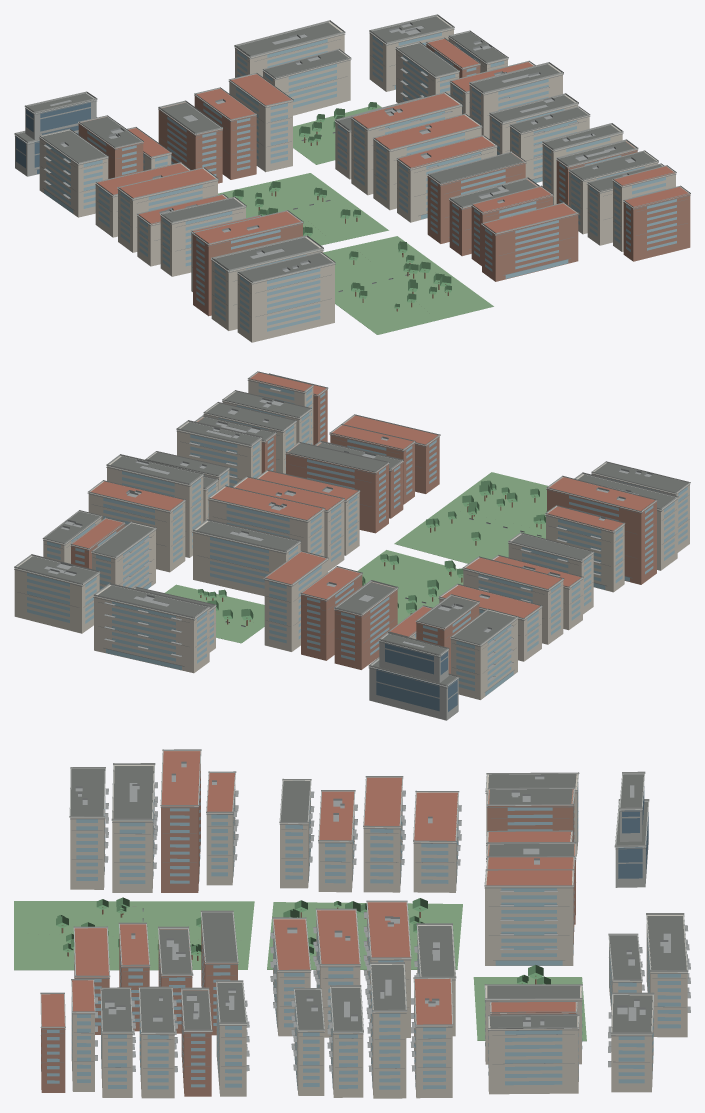
The model's file is tile-p001-m003.glb.
3 views of the same model, one above another, from view 1: azimuth 30°, elevation 25°; view 2: azimuth 150°, elevation 25°; view 3: azimuth 270°, elevation 25° (orthographic). The views are drawn at different scales.
Visible parts, largest first — view 1: neighborhood-park-block-214-mesh-0, neighborhood-park-block-215-mesh-5, building-0806-mesh-35, building-0908-mesh-134, building-0976-mesh-214, building-0812-mesh-68, building-0804-mesh-22, building-0905-mesh-117, building-0806-mesh-36, building-0861-mesh-111, building-0859-mesh-99, building-0860-mesh-105 (+85 smaller); view 2: neighborhood-park-block-214-mesh-0, building-0918-mesh-167, neighborhood-park-block-215-mesh-5, building-0804-mesh-22, building-0984-mesh-265, building-0913-mesh-160, building-0905-mesh-117, building-0859-mesh-99, building-0977-mesh-219, building-0918-mesh-168, building-0812-mesh-68, building-0803-mesh-15 (+75 smaller); view 3: neighborhood-park-block-214-mesh-0, building-0861-mesh-111, building-0983-mesh-258, building-0804-mesh-22, neighborhood-park-block-215-mesh-5, building-0861-mesh-112, building-0978-mesh-226, building-0805-mesh-28, building-0983-mesh-259, building-0912-mesh-157, building-0977-mesh-219, building-0918-mesh-167 (+87 smaller).
Boxes of the visible parts, x1,y1,x2,y2 form: neighborhood-park-block-214-mesh-0: (323,236,493,334); neighborhood-park-block-215-mesh-5: (218,173,388,245); building-0806-mesh-35: (237,253,334,342); building-0908-mesh-134: (482,203,578,281); building-0976-mesh-214: (623,189,690,261); building-0812-mesh-68: (39,130,108,217); building-0804-mesh-22: (193,211,302,316); building-0905-mesh-117: (427,153,525,243); building-0806-mesh-36: (240,268,320,332); building-0861-mesh-111: (229,81,292,172); building-0859-mesh-99: (158,102,222,183); building-0860-mesh-105: (194,95,256,179); neighborhood-park-block-214-mesh-0: (394,472,547,563); building-0918-mesh-167: (94,585,209,673); neighborhood-park-block-215-mesh-5: (357,550,463,623); building-0804-mesh-22: (547,477,656,584); building-0984-mesh-265: (14,556,99,633); building-0913-mesh-160: (193,521,300,596); building-0905-mesh-117: (286,443,388,533); building-0859-mesh-99: (334,582,397,669); building-0977-mesh-219: (88,481,185,572); building-0918-mesh-168: (106,602,206,669); building-0812-mesh-68: (451,610,517,699); building-0803-mesh-15: (546,507,624,592); neighborhood-park-block-214-mesh-0: (14,901,254,970); building-0861-mesh-111: (485,870,573,965); building-0983-mesh-258: (488,1016,578,1094); building-0804-mesh-22: (161,751,200,892); neighborhood-park-block-215-mesh-5: (267,902,462,969); building-0861-mesh-112: (495,887,573,965); building-0978-mesh-226: (370,964,406,1098); building-0805-mesh-28: (112,765,154,892); building-0983-mesh-259: (488,1030,578,1085); building-0912-mesh-157: (367,902,410,957); building-0977-mesh-219: (414,978,452,1098); building-0918-mesh-167: (646,915,687,1037).
Size of the model in its own units: 261 by 41.98 by 284.
